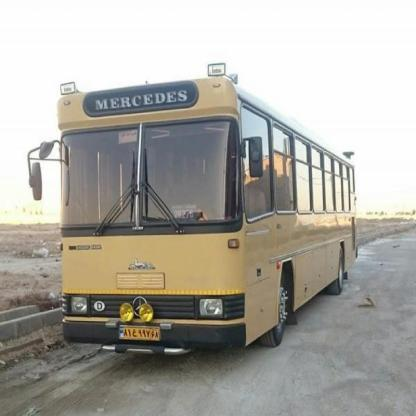Bus: (41, 76, 356, 371)
